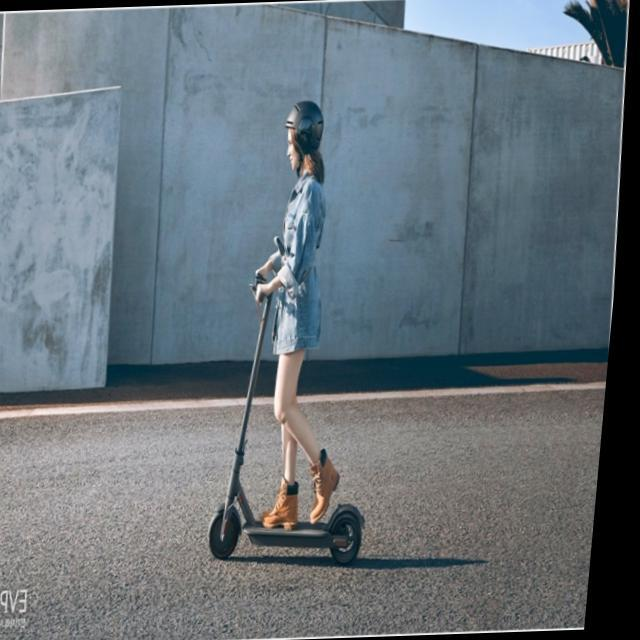Helmet: (275, 90, 335, 182)
